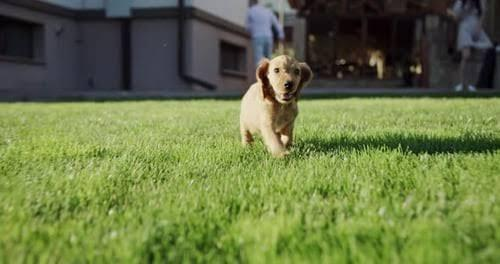non-dog: (452, 1, 494, 90), (244, 0, 289, 71)
puppy-dog: (239, 54, 313, 160)
